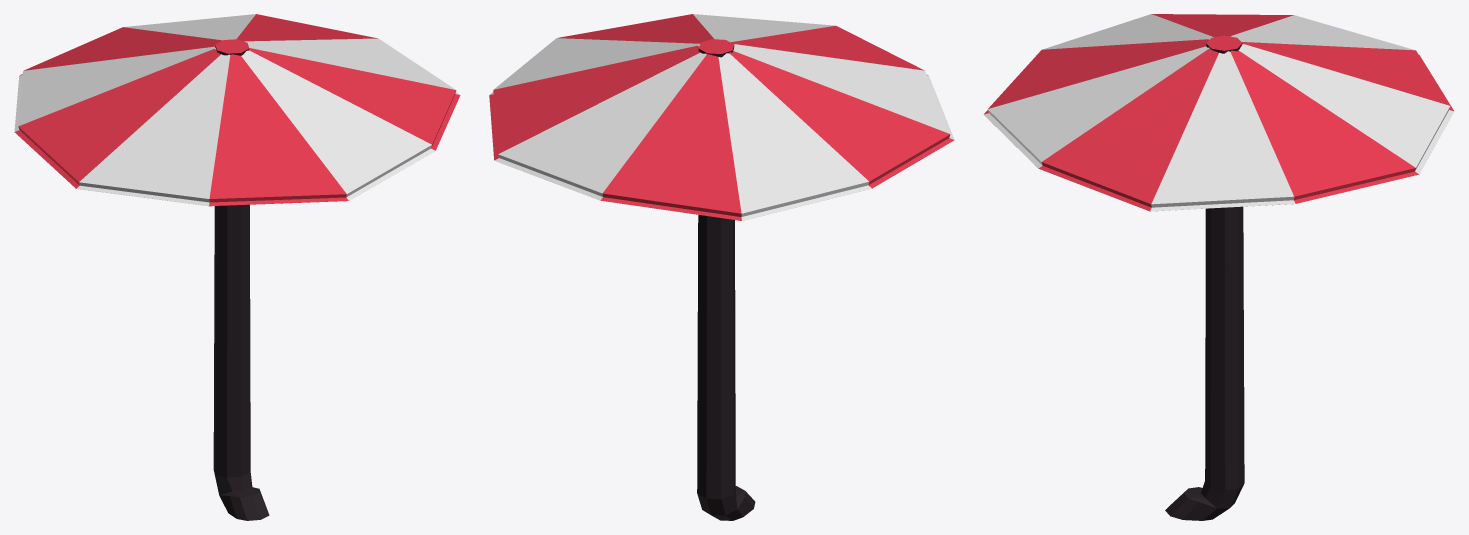
The model's file is Sombrilla.fbx.
3 renders of one model, left to right at view 1: azimuth 30°, elevation 25°; view 2: azimuth 150°, elevation 25°; view 3: azimuth 270°, elevation 25°, orthographic. The views are drawn at different scales.
Parts seen in each view (by area): view 1: Umbrella; view 2: Umbrella; view 3: Umbrella.
Boxes of the visible parts, left/top/right/bottom form: Umbrella: left=14, top=14, right=460, bottom=520; Umbrella: left=489, top=14, right=954, bottom=520; Umbrella: left=983, top=14, right=1454, bottom=520.
Size of the model in its own units: 4379 by 4978 by 4500.
